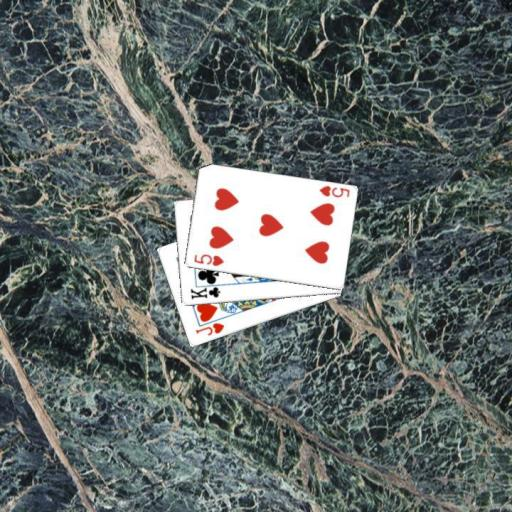5H: (191, 251, 225, 268), (316, 183, 351, 199)
JH: (192, 320, 225, 337)
KC: (187, 281, 224, 301)
